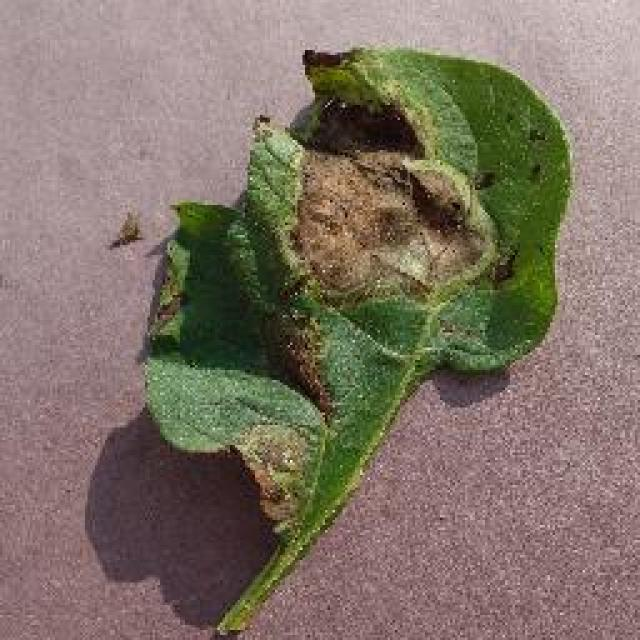Potato: (140, 40, 572, 635)
